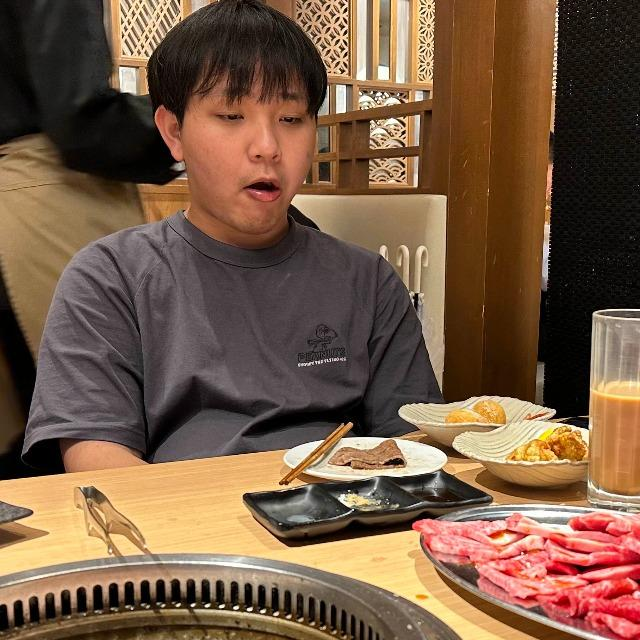NoHelmet: (144, 0, 338, 241)
NoVest: (68, 217, 431, 457)
